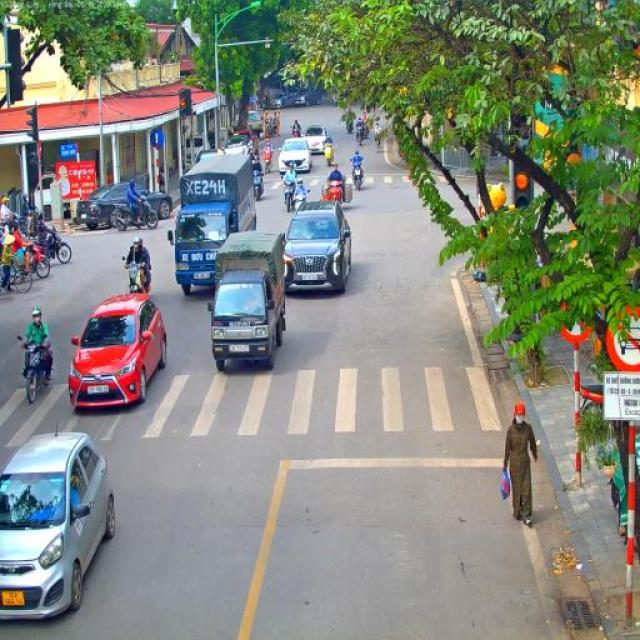car: (0, 430, 116, 624), (68, 289, 168, 413), (282, 200, 353, 294), (76, 180, 174, 229), (278, 137, 312, 173), (303, 125, 328, 154), (224, 134, 252, 158), (300, 86, 328, 105), (280, 92, 304, 108), (194, 148, 217, 164)
motorcycle: (17, 335, 55, 405), (111, 194, 159, 232), (14, 240, 51, 279), (122, 256, 150, 295), (40, 230, 72, 264), (321, 179, 353, 205), (348, 158, 364, 192), (282, 177, 297, 213), (0, 212, 20, 238), (292, 188, 312, 212), (251, 168, 265, 202), (262, 150, 274, 174), (322, 142, 333, 167), (354, 122, 364, 146), (373, 129, 382, 153), (250, 152, 260, 168), (267, 122, 275, 139), (346, 118, 355, 133), (362, 120, 369, 139), (292, 127, 300, 138)
truck: (168, 152, 258, 298), (206, 231, 288, 373), (34, 172, 78, 223), (260, 80, 282, 110), (246, 110, 262, 140)
